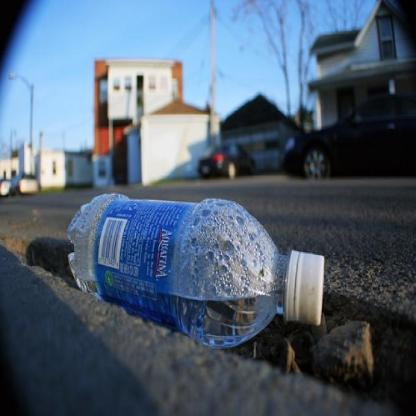Plastic Bottle: (68, 194, 324, 349)
